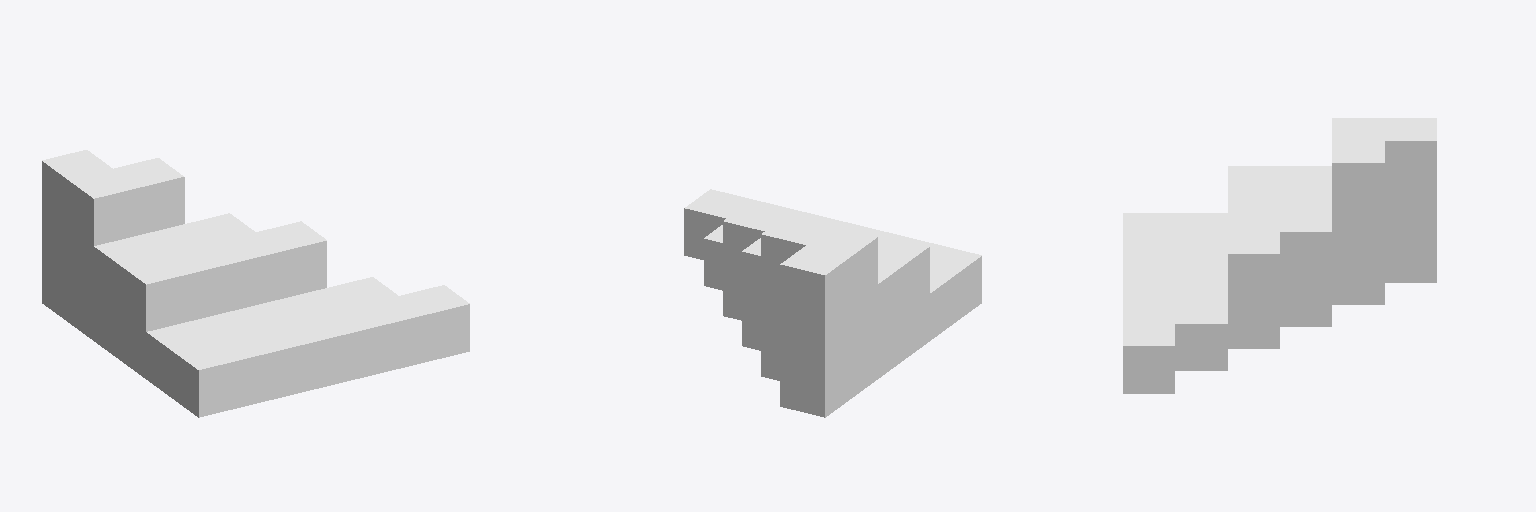
The model's file is UninkableShortTriangleSlopeB.obj.
3 views of the same model, side by side, from view 1: azimuth 30°, elevation 25°; view 2: azimuth 150°, elevation 25°; view 3: azimuth 270°, elevation 25° (orthographic).
Visible parts, largest first — view 1: object 1; view 2: object 1; view 3: object 1.
Part boxes in pixels (x1,y1,x2,y2): object 1: (42, 150, 469, 417); object 1: (684, 189, 981, 417); object 1: (1123, 118, 1436, 393).
Bounding box in the file's own units: 0.6 × 0.3 × 0.6.